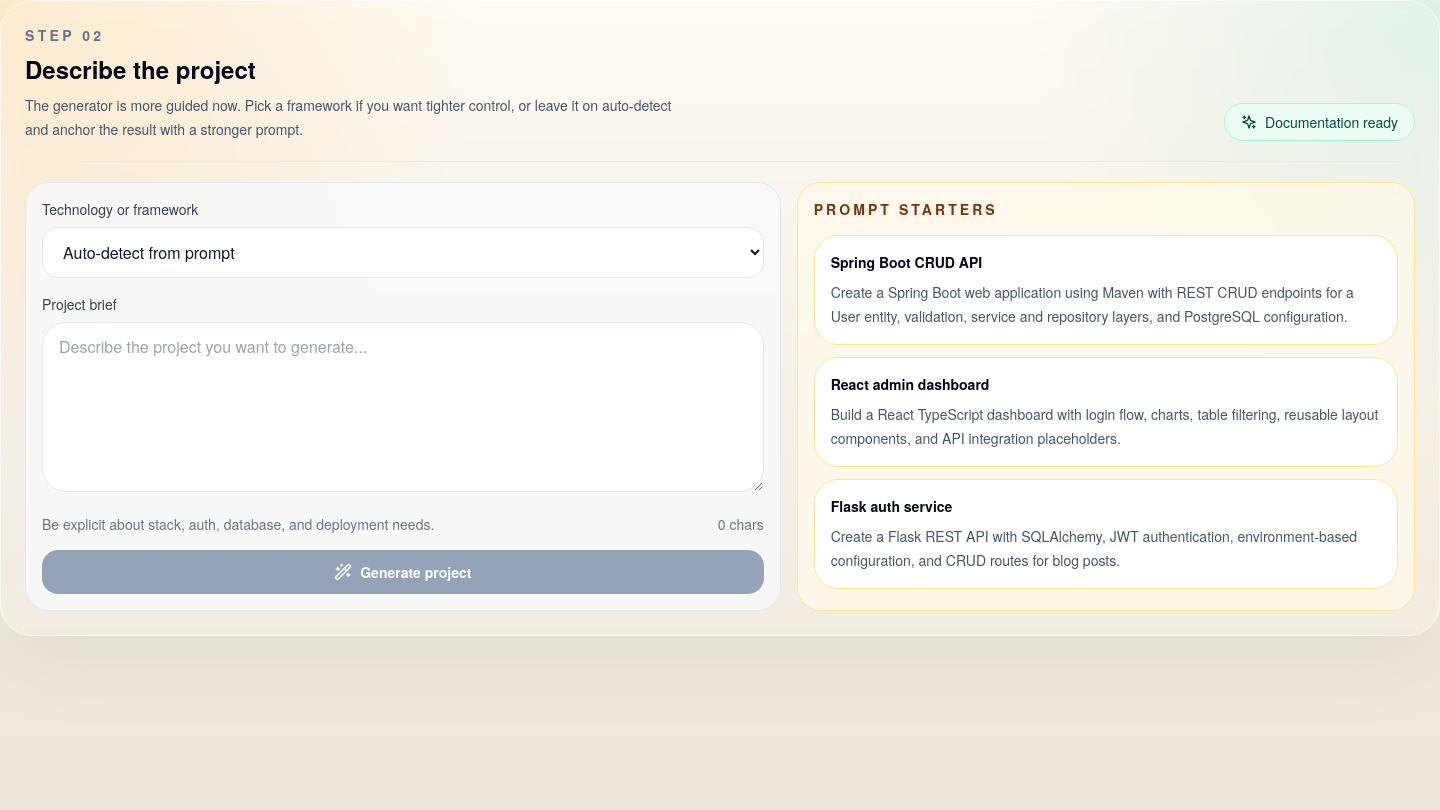
ProjectGenerator Component › Example Prompts › should set technology when example is clicked
The image size is (1440, 810).
Click the button "Flask auth service".
click(1106, 534)  # box [814,479,1398,589]
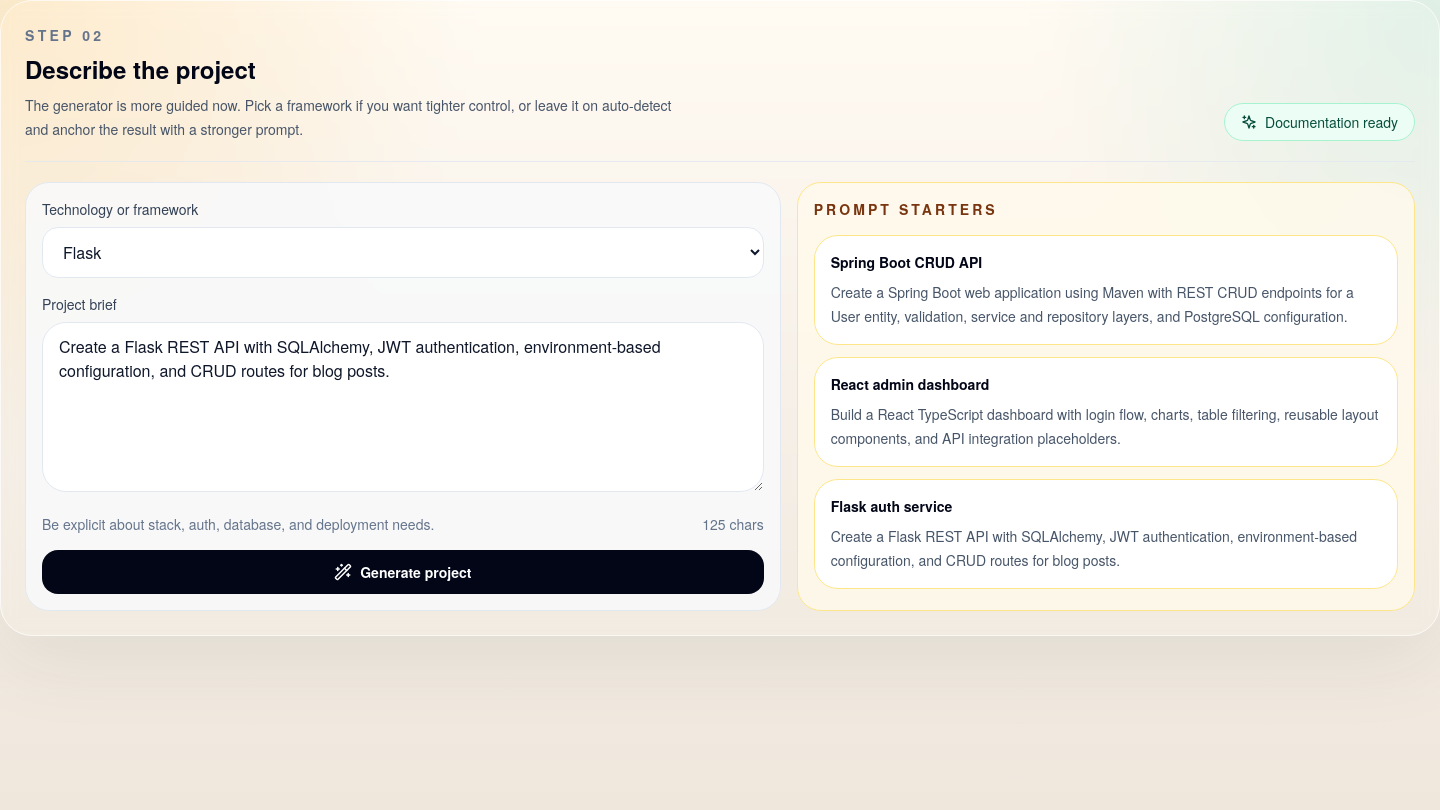
Expected: the dropdown labelled "Technology or framework" shows "Flask", [42,227,764,278]
